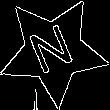N_SE: (26, 20, 81, 82)
